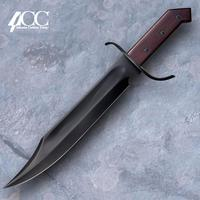knife: (2, 10, 192, 191)
